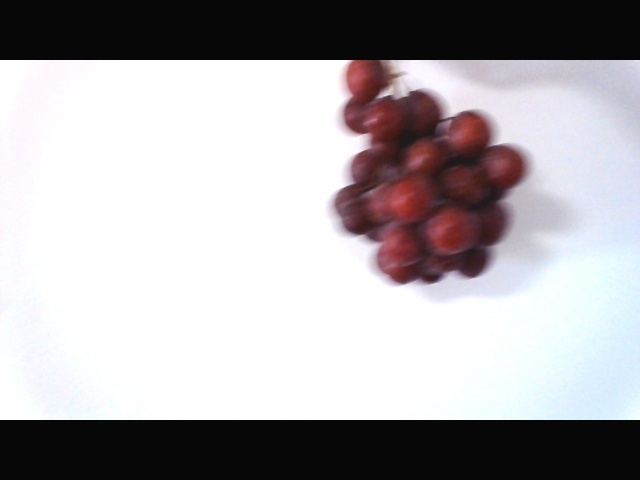grape: (329, 60, 525, 289)
